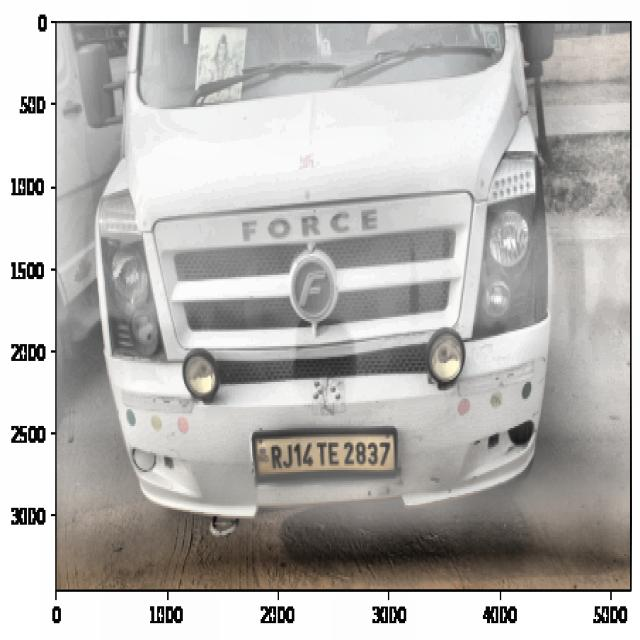license_plate: (264, 433, 398, 478)
